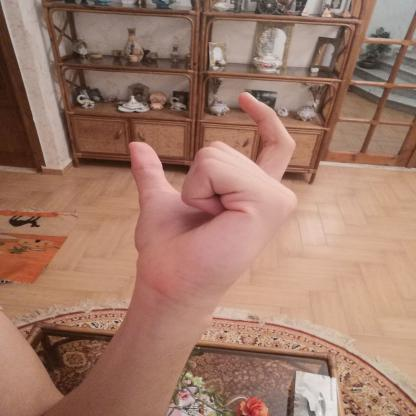NOON: (100, 81, 323, 323)
